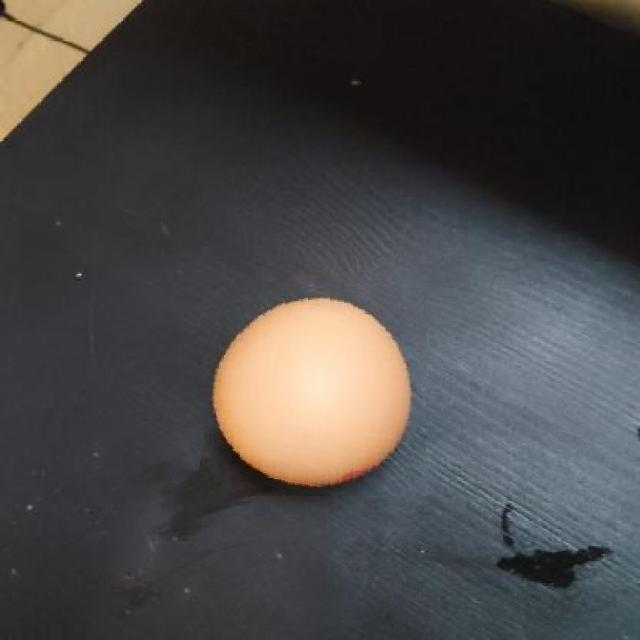biodegradable: (206, 282, 426, 496)
